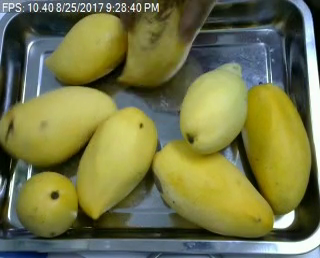Mango: (152, 139, 274, 236), (0, 85, 121, 166), (239, 84, 314, 214), (77, 107, 159, 218), (118, 0, 197, 87), (180, 62, 248, 154), (44, 13, 127, 85), (18, 170, 78, 236)
